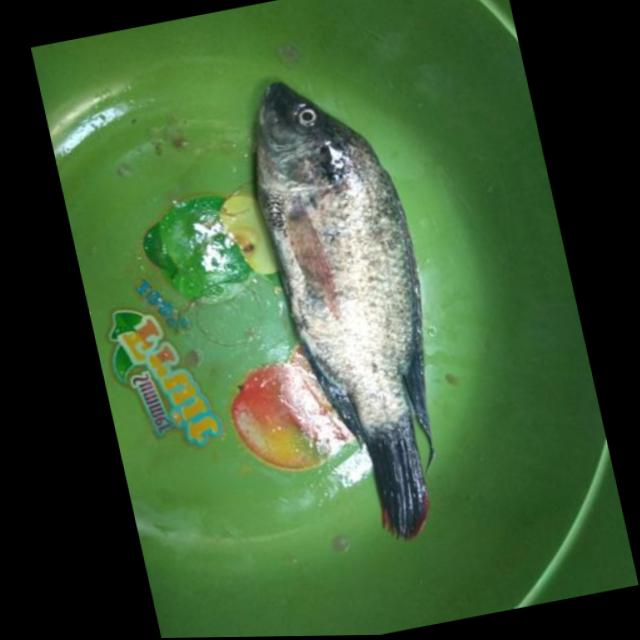Tilapia: (231, 60, 477, 551)
